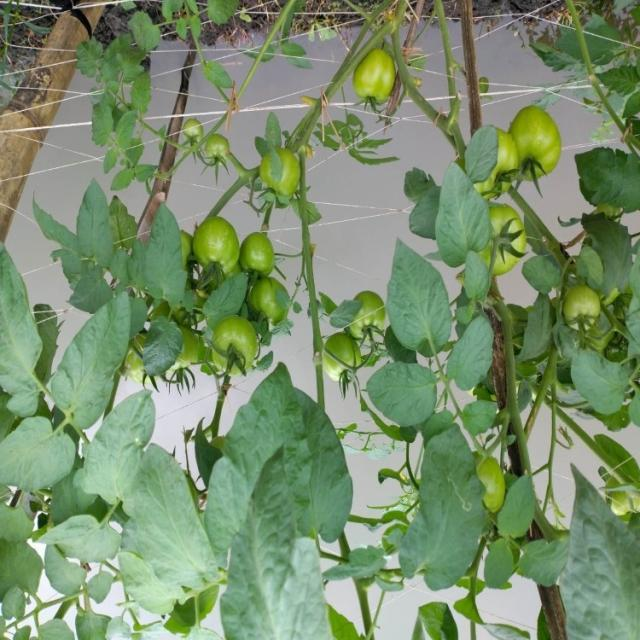tomato: (206, 310, 271, 397), (511, 101, 563, 182), (187, 208, 252, 270), (462, 456, 516, 527), (479, 215, 538, 273), (259, 145, 312, 207), (482, 121, 523, 199), (313, 328, 373, 381), (349, 43, 396, 110), (348, 283, 393, 350), (242, 232, 290, 290), (554, 280, 602, 328), (252, 285, 297, 333), (167, 336, 202, 375), (173, 119, 205, 150), (208, 138, 235, 165)
